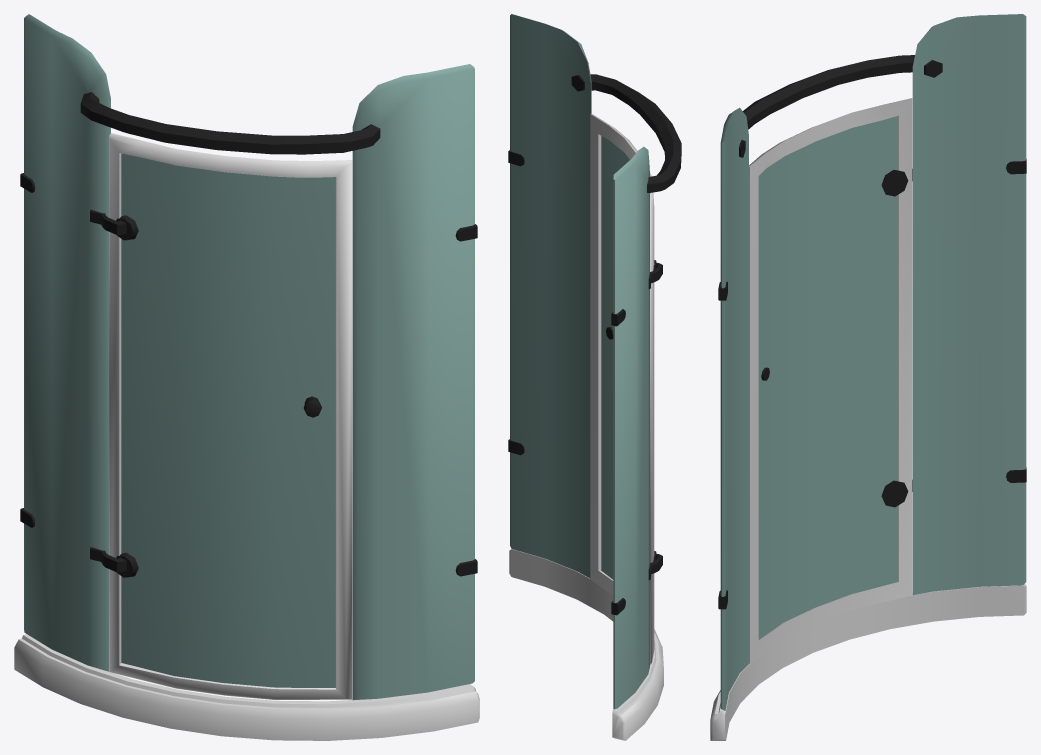
The model's file is OLSA18.FBX.
3 renders of one model, left to right at view 1: azimuth 30°, elevation 25°; view 2: azimuth 150°, elevation 25°; view 3: azimuth 270°, elevation 25°, orthographic. The views are drawn at different scales.
Parts seen in each view (by area): view 1: OLSA18; view 2: OLSA18; view 3: OLSA18.
Part boxes in pixels (<box>): OLSA18: <box>14,14,479,740</box>; OLSA18: <box>508,14,681,740</box>; OLSA18: <box>710,14,1026,740</box>.
Bounding box in the file's own units: 105 × 105 × 220.
